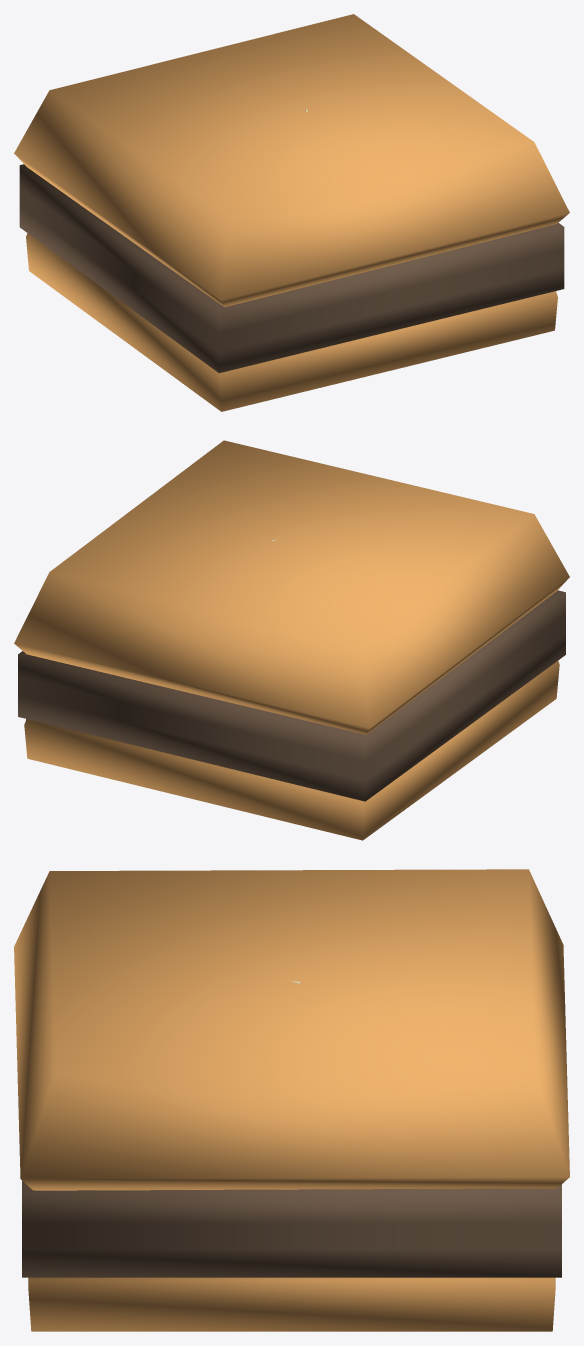
The model's file is burger.gltf.
3 renders of one model, top to bottom at view 1: azimuth 30°, elevation 25°; view 2: azimuth 150°, elevation 25°; view 3: azimuth 270°, elevation 25°, orthographic. The views are drawn at different scales.
Visible parts, largest first — view 1: Cube, Cube.001; view 2: Cube, Cube.001; view 3: Cube, Cube.001.
Part boxes in pixels (x1,y1,x2,y2): Cube: (14, 14, 569, 411); Cube.001: (19, 164, 564, 372); Cube: (14, 440, 569, 840); Cube.001: (18, 590, 565, 801); Cube: (14, 869, 569, 1331); Cube.001: (22, 1181, 561, 1277).
Bounding box in the file's own units: 10.82 × 5.38 × 10.82.
